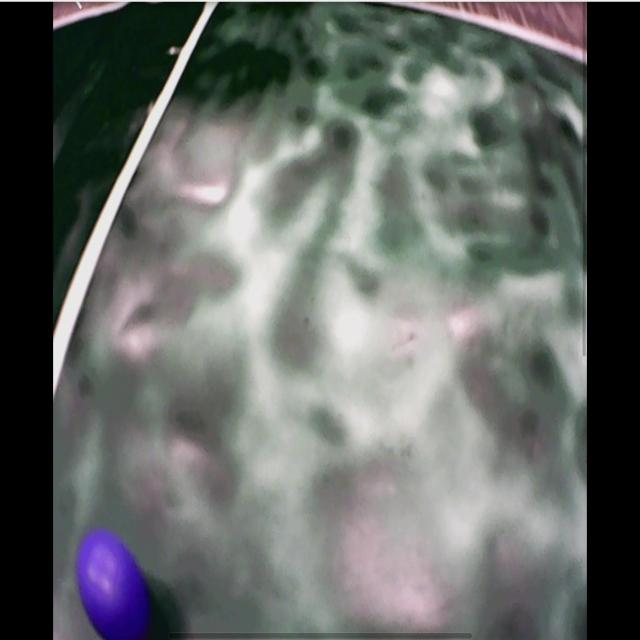ball: (80, 533, 149, 640)
